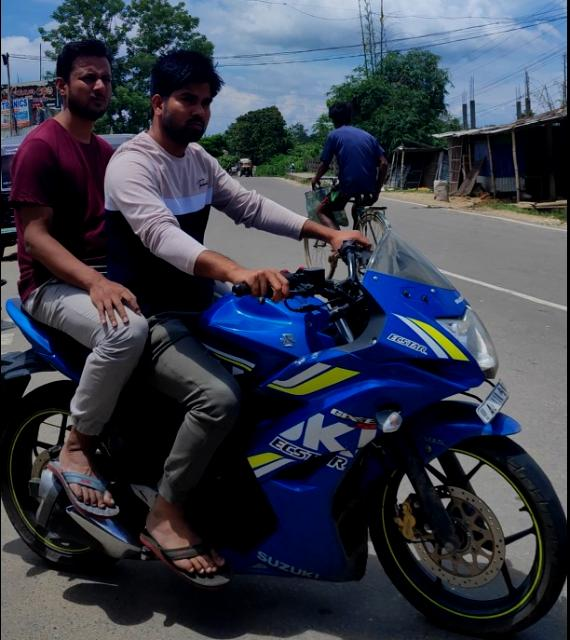motorcycle: (0, 34, 570, 637)
withoutHelmet: (151, 52, 221, 145), (55, 40, 113, 121)
